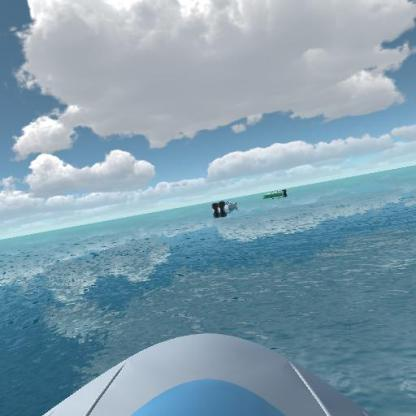usv0: (261, 185, 290, 202)
usv1: (206, 195, 243, 218)
